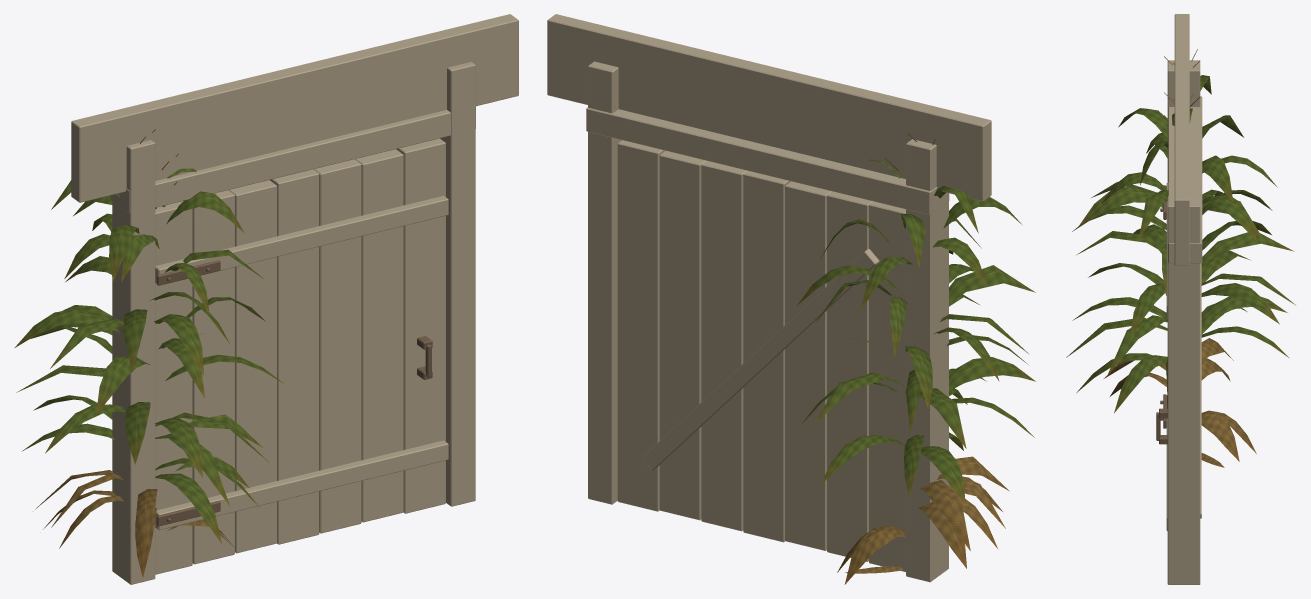
File: cornfield-kit.glb
The picture shows the model from 3 angles, left to right: view 1: azimuth 30°, elevation 25°; view 2: azimuth 150°, elevation 25°; view 3: azimuth 270°, elevation 25°; orthographic projection. The views are drawn at different scales.
Visible parts, largest first — view 1: entrance_door, entrance_frame, corn_near_0, corn_near_2, corn_near_1, corn_far_2, corn_far_0, corn_far_1, entrance_hardware; view 2: entrance_door, entrance_frame, corn_near_0, corn_near_1, corn_near_2, corn_far_0, corn_far_1, corn_far_2; view 3: entrance_frame, corn_near_1, corn_near_2, corn_near_0, corn_far_0, corn_far_1, corn_far_2, entrance_door, entrance_hardware.
Boxes of the visible parts, box(x1,y1,x2,y2) form: entrance_door: box(155, 138, 448, 574); entrance_frame: box(71, 14, 518, 584); corn_near_0: box(43, 153, 283, 546); corn_near_2: box(22, 205, 265, 577); corn_near_1: box(14, 129, 258, 548); corn_far_2: box(16, 181, 262, 561); corn_far_0: box(35, 161, 265, 547); corn_far_1: box(30, 136, 269, 527); entrance_hardware: box(157, 260, 432, 526); entrance_door: box(617, 140, 905, 571); entrance_frame: box(547, 14, 991, 582); corn_near_0: box(797, 157, 1034, 568); corn_near_1: box(837, 133, 1035, 572); corn_near_2: box(802, 219, 1028, 584); corn_far_0: box(813, 214, 1029, 550); corn_far_1: box(838, 138, 1035, 571); corn_far_2: box(816, 218, 1009, 576); entrance_frame: box(1167, 14, 1202, 584); corn_near_1: box(1078, 61, 1287, 461); corn_near_2: box(1072, 155, 1279, 453); corn_near_0: box(1072, 97, 1288, 392); corn_far_0: box(1066, 92, 1295, 362); corn_far_1: box(1091, 49, 1294, 433); corn_far_2: box(1077, 115, 1262, 450); entrance_door: box(1166, 182, 1201, 530); entrance_hardware: box(1156, 185, 1167, 444).
Bounding box in the file's own units: 3.81 × 3.55 × 1.84.
3 materials, 1 textured.
